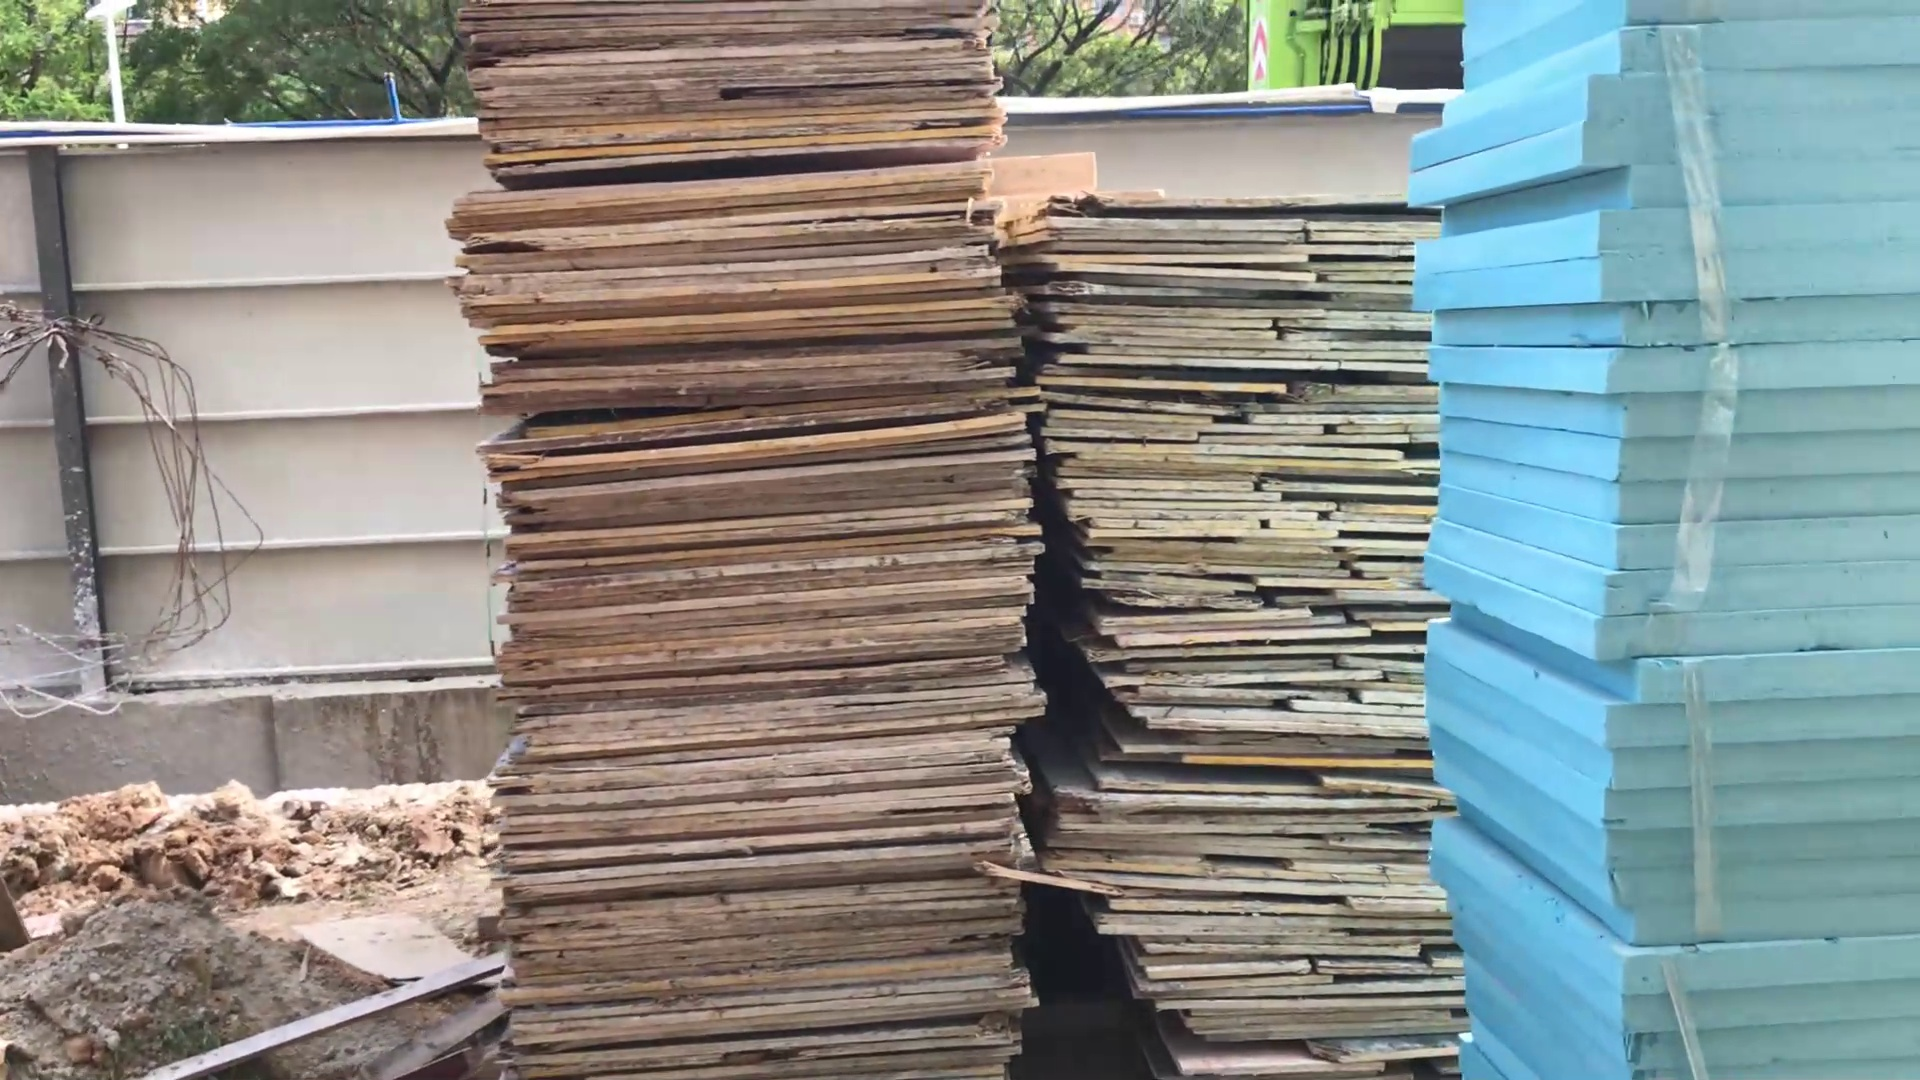board: (465, 1, 1035, 1080), (1022, 193, 1448, 1080)
